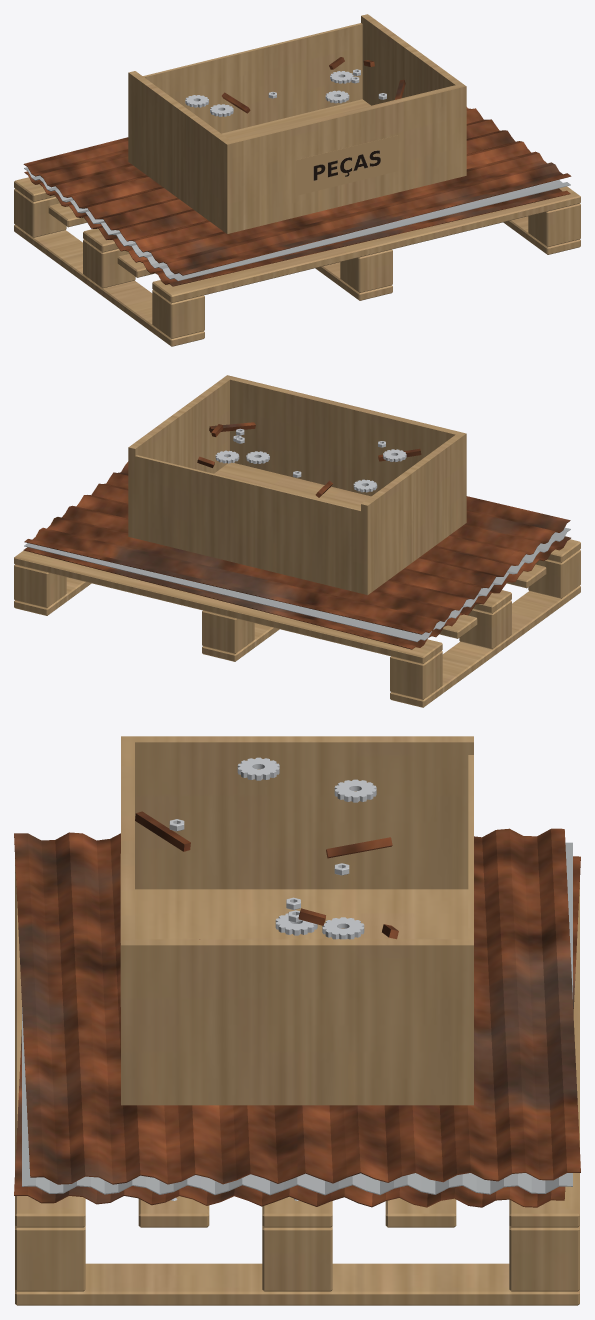
File: pallet_sucata.glb
The picture shows the model from 3 angles, top to bottom: view 1: azimuth 30°, elevation 25°; view 2: azimuth 150°, elevation 25°; view 3: azimuth 270°, elevation 25°; orthographic projection. The views are drawn at different scales.
Visible parts, largest first — view 1: pallet_sucata_camada_4_madeira_crua, pallet_sucata_camada_3_ferrugem, pallet_sucata_madeira_crua, pallet_sucata_camada_2_galvanizado, pallet_sucata_camada_1_ferrugem, pallet_sucata_camada_4_estencil_pecas, pallet_sucata_camada_4_aco, pallet_sucata_camada_4_ferrugem; view 2: pallet_sucata_camada_4_madeira_crua, pallet_sucata_camada_3_ferrugem, pallet_sucata_madeira_crua, pallet_sucata_camada_1_ferrugem, pallet_sucata_camada_2_galvanizado, pallet_sucata_camada_4_aco, pallet_sucata_camada_4_ferrugem; view 3: pallet_sucata_camada_4_madeira_crua, pallet_sucata_camada_3_ferrugem, pallet_sucata_madeira_crua, pallet_sucata_camada_2_galvanizado, pallet_sucata_camada_1_ferrugem, pallet_sucata_camada_4_aco, pallet_sucata_camada_4_ferrugem.
Part boxes in pixels (left/top/right/bottom): pallet_sucata_camada_4_madeira_crua: left=128, top=14, right=466, bottom=233; pallet_sucata_camada_3_ferrugem: left=23, top=107, right=571, bottom=275; pallet_sucata_madeira_crua: left=14, top=177, right=580, bottom=346; pallet_sucata_camada_2_galvanizado: left=24, top=167, right=570, bottom=280; pallet_sucata_camada_1_ferrugem: left=24, top=171, right=570, bottom=286; pallet_sucata_camada_4_estencil_pecas: left=295, top=135, right=398, bottom=195; pallet_sucata_camada_4_aco: left=185, top=69, right=386, bottom=116; pallet_sucata_camada_4_ferrugem: left=222, top=57, right=405, bottom=113; pallet_sucata_camada_4_madeira_crua: left=128, top=375, right=466, bottom=594; pallet_sucata_camada_3_ferrugem: left=24, top=461, right=570, bottom=634; pallet_sucata_madeira_crua: left=14, top=539, right=580, bottom=707; pallet_sucata_camada_1_ferrugem: left=23, top=536, right=570, bottom=649; pallet_sucata_camada_2_galvanizado: left=24, top=527, right=570, bottom=641; pallet_sucata_camada_4_aco: left=215, top=428, right=406, bottom=492; pallet_sucata_camada_4_ferrugem: left=197, top=422, right=421, bottom=497; pallet_sucata_camada_4_madeira_crua: left=121, top=736, right=473, bottom=1105; pallet_sucata_camada_3_ferrugem: left=14, top=828, right=580, bottom=1184; pallet_sucata_madeira_crua: left=15, top=859, right=579, bottom=1305; pallet_sucata_camada_2_galvanizado: left=22, top=842, right=572, bottom=1195; pallet_sucata_camada_1_ferrugem: left=14, top=856, right=580, bottom=1207; pallet_sucata_camada_4_aco: left=169, top=757, right=376, bottom=939; pallet_sucata_camada_4_ferrugem: left=135, top=811, right=398, bottom=939.
Bounding box in the file's own units: 1.2 × 0.448 × 0.8028.
Materials: 5 (3 with a texture image).
